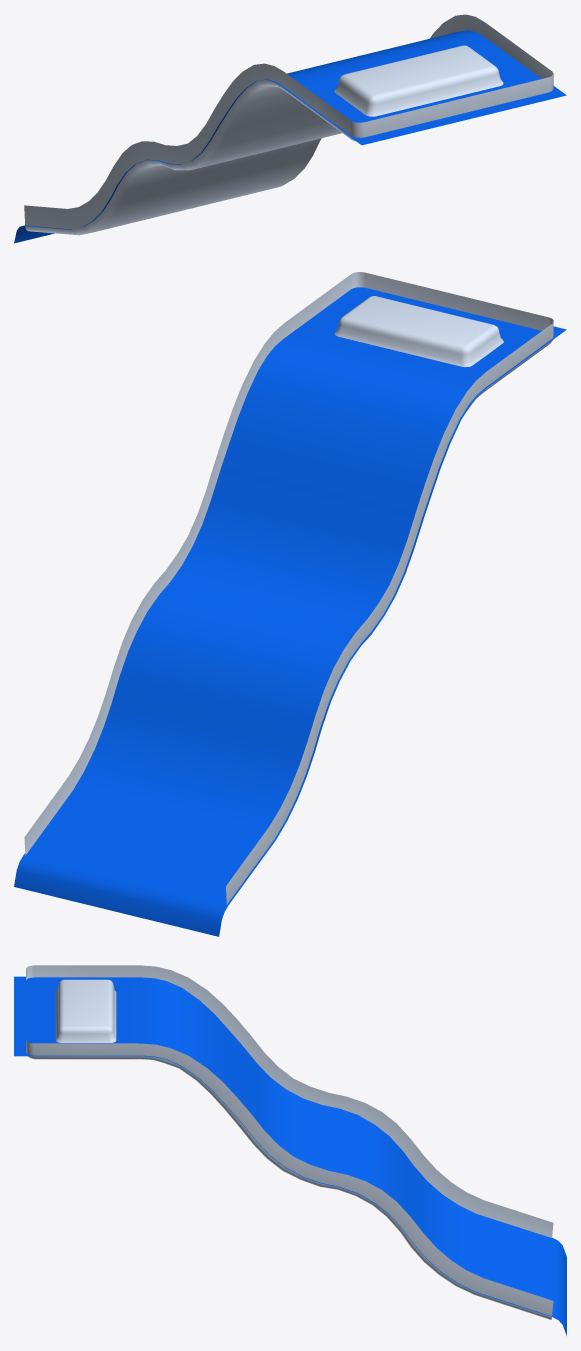
The model's file is slider_wave.fbx.
3 views of the same model, one above another, from view 1: azimuth 30°, elevation 25°; view 2: azimuth 150°, elevation 25°; view 3: azimuth 270°, elevation 25° (orthographic). The views are drawn at different scales.
Visible parts, largest first — view 1: MDL_Wave_Slider_island, MDL_Wave_Slider_Water; view 2: MDL_Wave_Slider_Water, MDL_Wave_Slider_island; view 3: MDL_Wave_Slider_Water, MDL_Wave_Slider_island.
Boxes of the visible parts, x1,y1,x2,y2 form: MDL_Wave_Slider_island: (24,14,553,235); MDL_Wave_Slider_Water: (14,30,566,243); MDL_Wave_Slider_Water: (14,287,566,936); MDL_Wave_Slider_island: (24,272,553,904); MDL_Wave_Slider_Water: (14,976,566,1335); MDL_Wave_Slider_island: (26,965,553,1319).
Size of the model in its own units: 472 by 813 by 1387.
